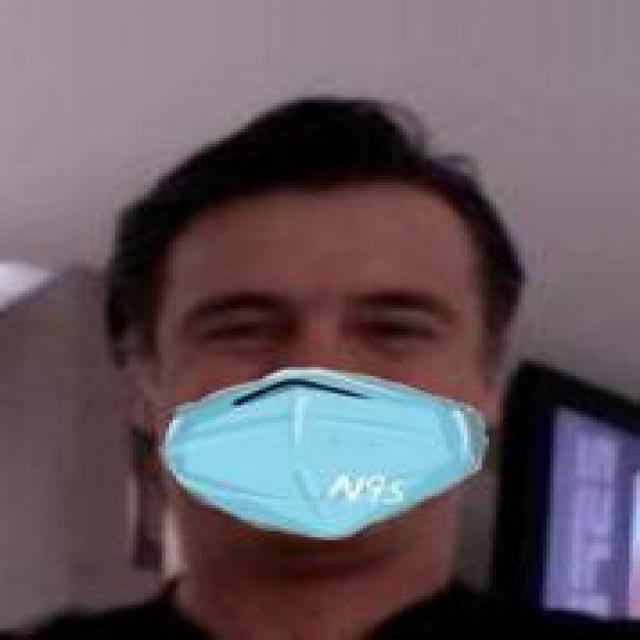mask: (86, 53, 550, 561)
